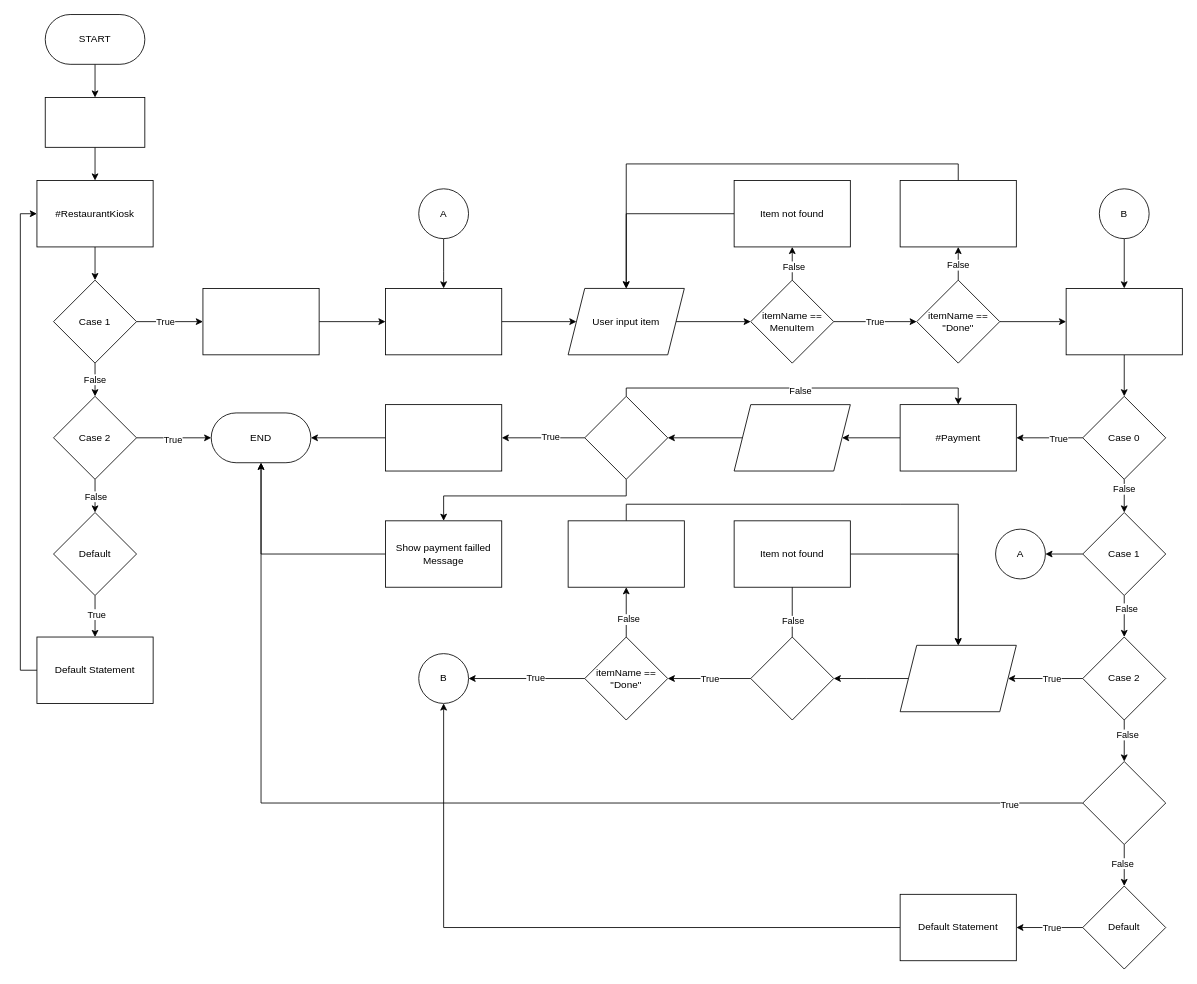
This 1197x984 diagram has some shape labels left out. Each missing label, with the centre of its shape:
#Order: the point at 260,321
[0] - Proceed payment [1] - Add Order [2] - Remove Item [3] - Cancel order: the point at 1123,321
Add_Item: the point at 443,321
Case 3: the point at 1124,803
Credit or Cash: the point at 791,437
Initialize RestaurantKiosk: the point at 94,122
Item Added: the point at 957,213
Item Deleted: the point at 625,553
itemName == ItemList: the point at 792,678
Payment successful?: the point at 626,437
Print_Receipt: the point at 443,437
User remove item: the point at 957,678
